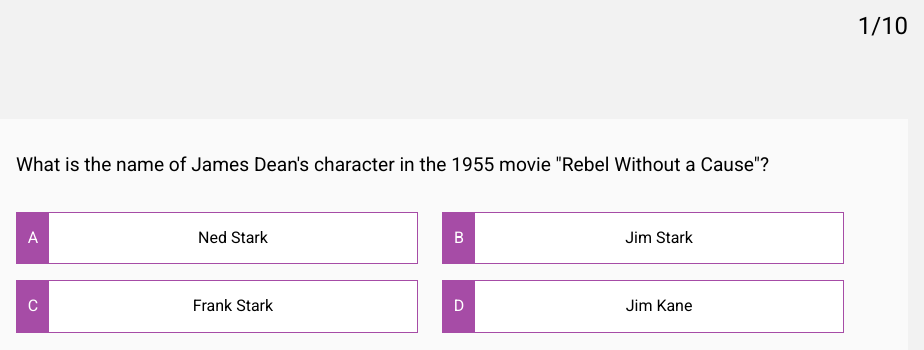
Test: <PlayingScreen /> › should render next question
This screenshot has width=924, height=350.
Step 1. Click the button "B Jim Stark" → [643, 238], box [442, 212, 844, 264]
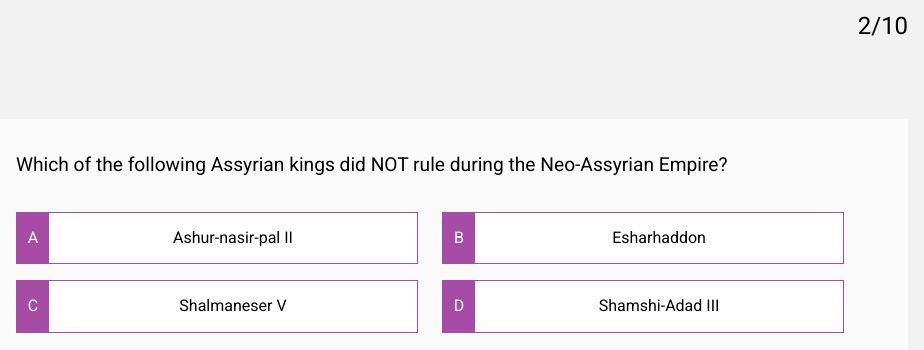
Expected: the text "Esharhaddon" is shown, [612, 228, 706, 247]
